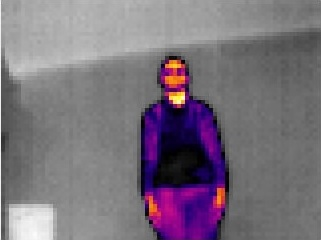human: (140, 56, 229, 240)
